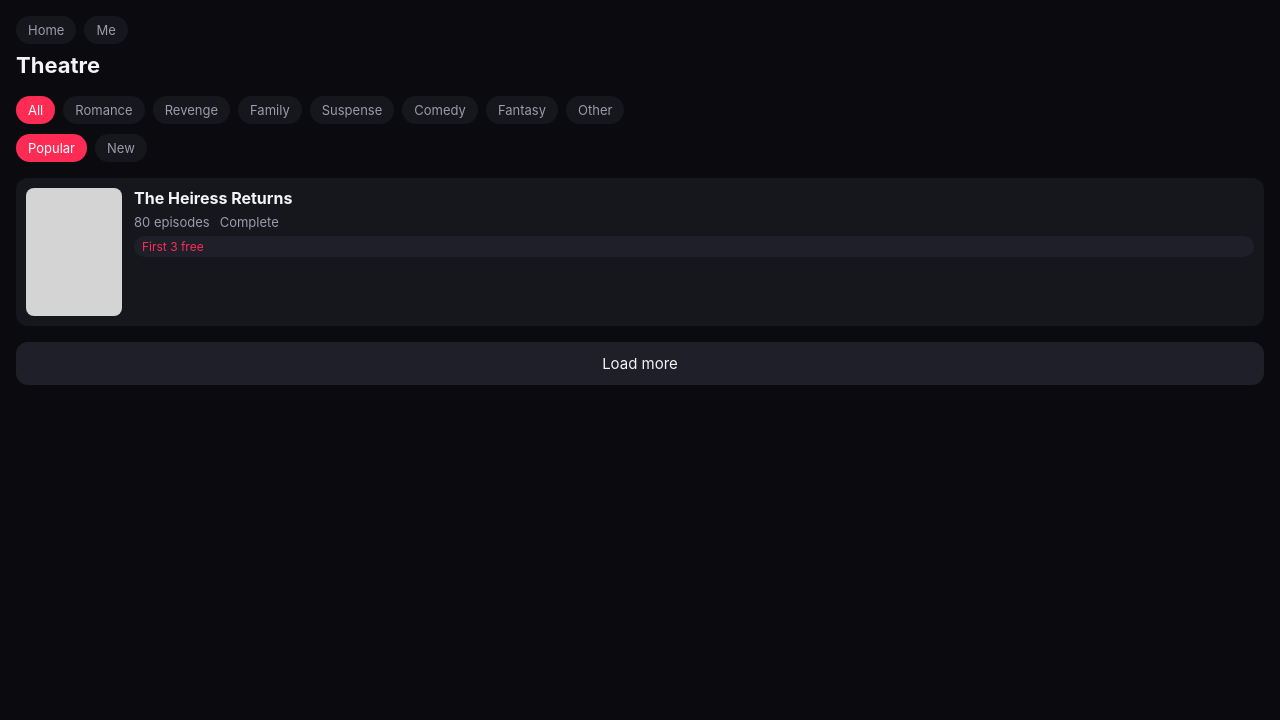
Scenario: browse paging › keeps the loaded cards when the next page fails
The width and height of the screenshot is (1280, 720).
Click the button with test id "load-more". click: (640, 363)
box: [16, 342, 1264, 384]
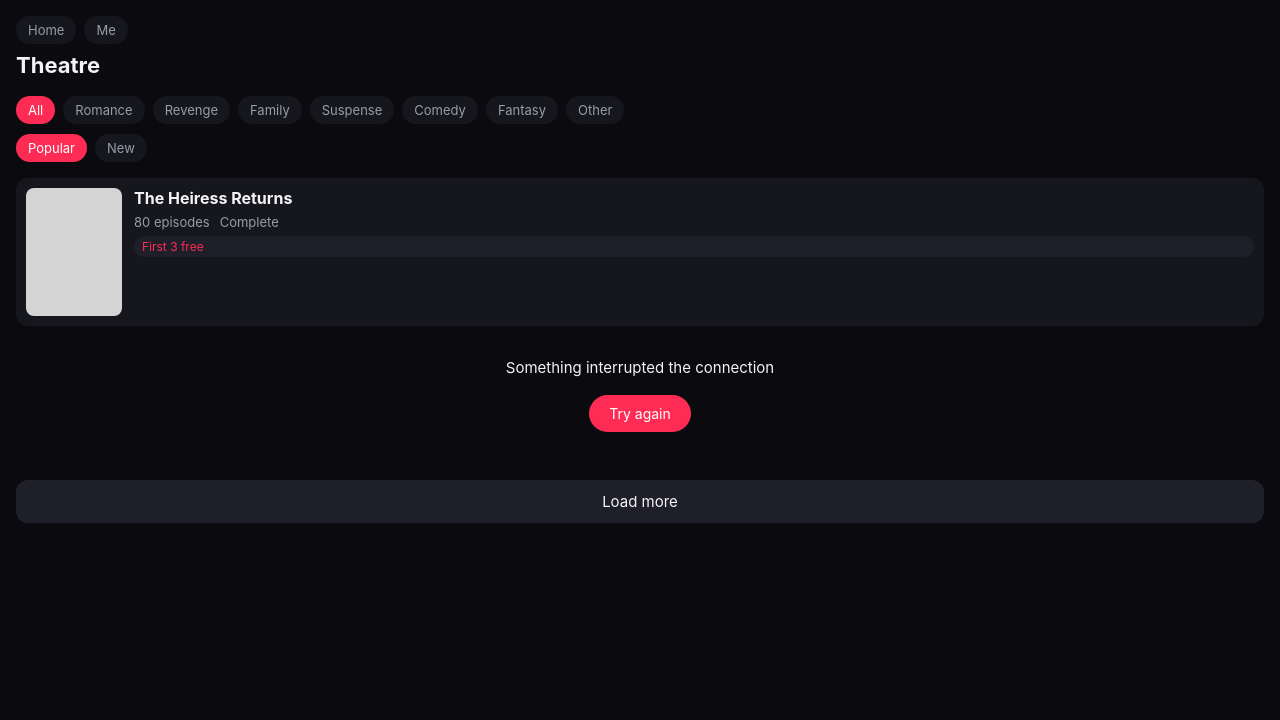
Expected: the number of list items with test id "browse-card" is 1, [16, 178, 1264, 326]
Expected: the message "Something interrupted the connection Try again" is shown, [506, 358, 774, 432]
